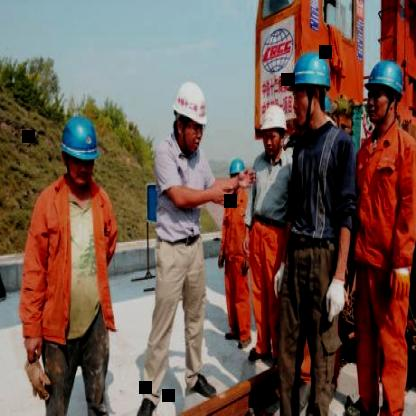helmet: (286, 47, 334, 130), (58, 110, 100, 190), (169, 72, 209, 156), (362, 56, 406, 128), (258, 102, 290, 158), (226, 154, 248, 192)
